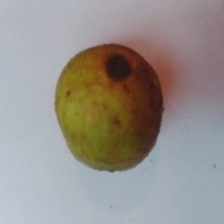guava: (8, 48, 188, 195)
